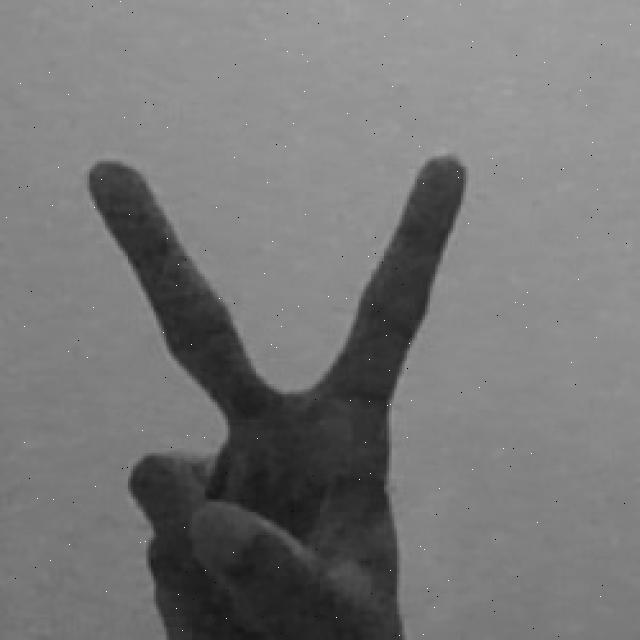V: (83, 138, 469, 640)
